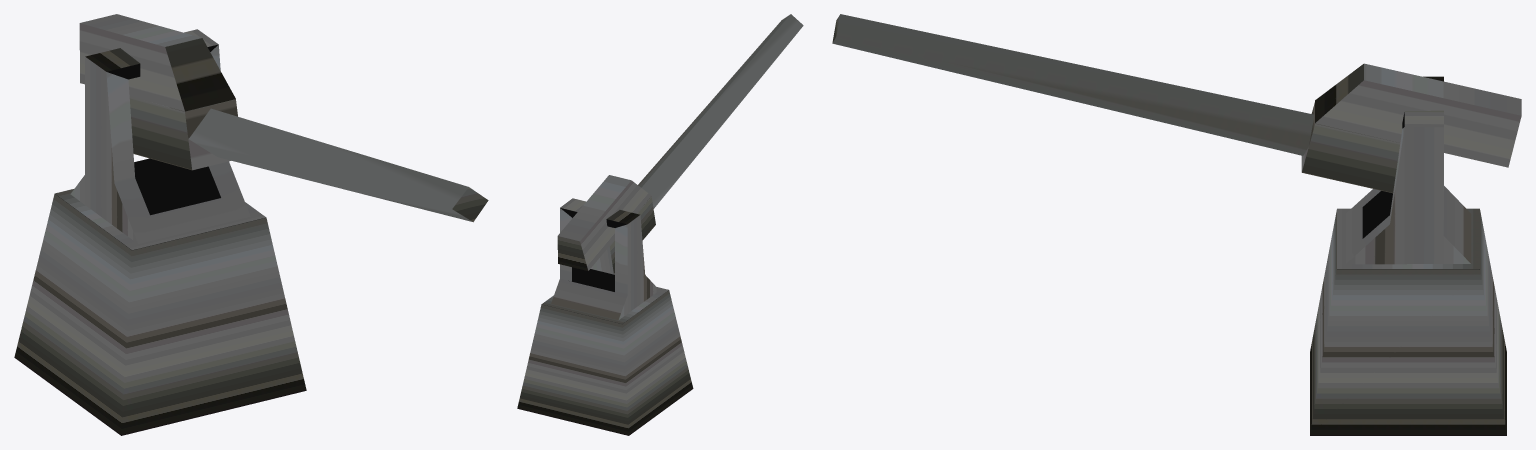
Rendered from longtomturret_hdtex.glb.
3 views of the same model, side by side, from view 1: azimuth 30°, elevation 25°; view 2: azimuth 150°, elevation 25°; view 3: azimuth 270°, elevation 25° (orthographic). The views are drawn at different scales.
Parts seen in each view (by area): view 1: Base, Turret; view 2: Base, Turret; view 3: Turret, Base.
Part boxes in pixels (x1,y1,x2,y2): Base: (14, 189, 306, 435); Turret: (70, 14, 488, 243); Base: (517, 287, 693, 435); Turret: (551, 14, 803, 320); Turret: (832, 14, 1521, 264); Base: (1310, 208, 1506, 435).
Size of the model in its own units: 4.6 by 9.79 by 16.08.
1 material, 1 textured.
